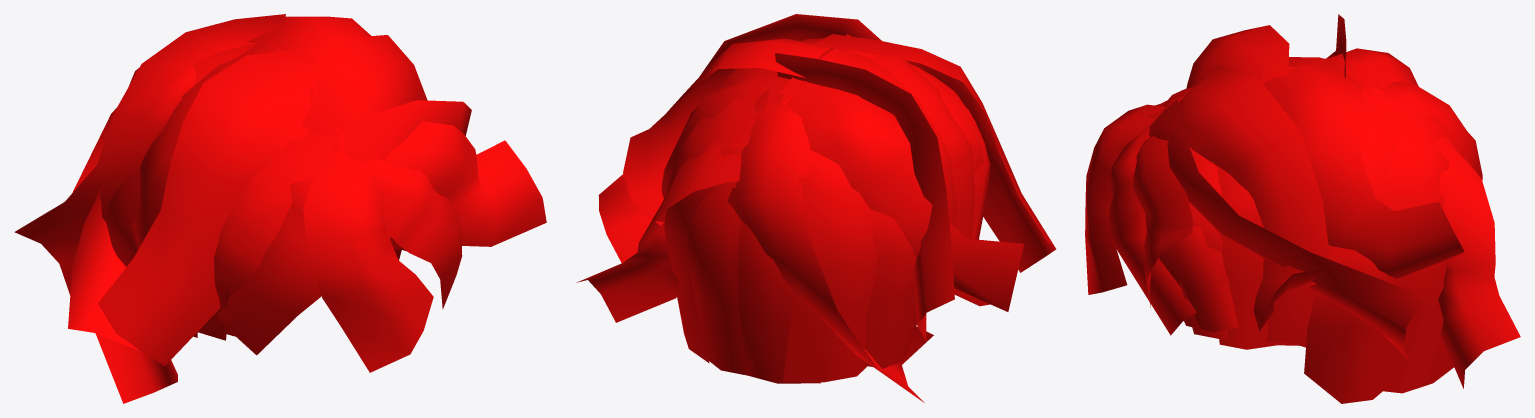
The model's file is cortu_short_messy_hair_M.glb.
3 renders of one model, left to right at view 1: azimuth 30°, elevation 25°; view 2: azimuth 150°, elevation 25°; view 3: azimuth 270°, elevation 25°, orthographic. The views are drawn at different scales.
Size of the model in its own units: 0.2697 by 0.2154 by 0.252.
Materials: 1 (1 with a texture image).
